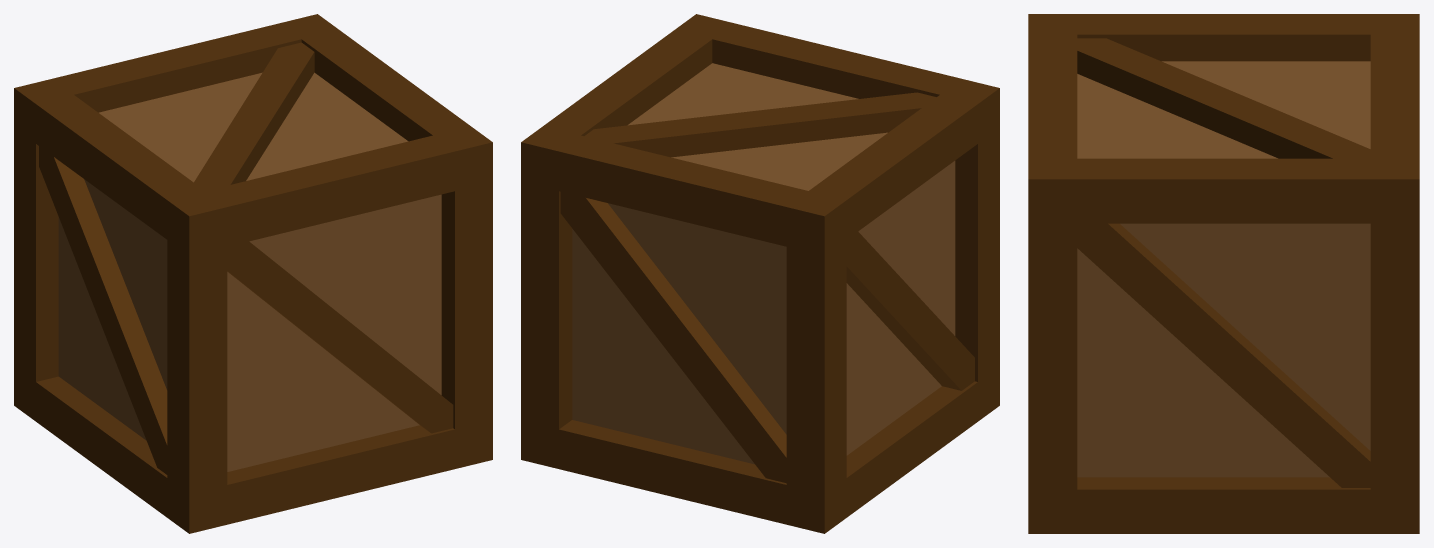
Rendered from cratesmall.fbx.
3 views of the same model, side by side, from view 1: azimuth 30°, elevation 25°; view 2: azimuth 150°, elevation 25°; view 3: azimuth 270°, elevation 25° (orthographic). The views are drawn at different scales.
Visible parts, largest first — view 1: Cube; view 2: Cube; view 3: Cube.
Boxes of the visible parts, left/top/right/bottom form: Cube: left=14, top=14, right=492, bottom=533; Cube: left=521, top=14, right=999, bottom=533; Cube: left=1028, top=14, right=1419, bottom=533.
Size of the model in its own units: 200 by 200 by 200.
